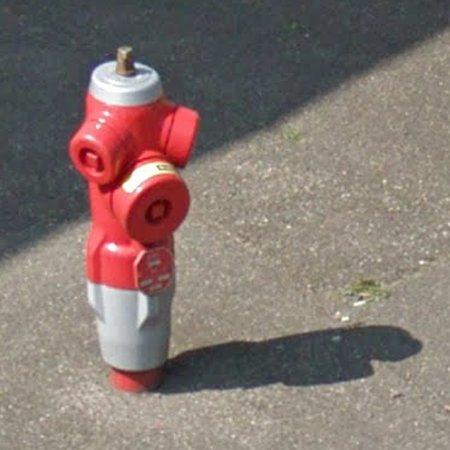a fire hydrant: (69, 46, 200, 393)
